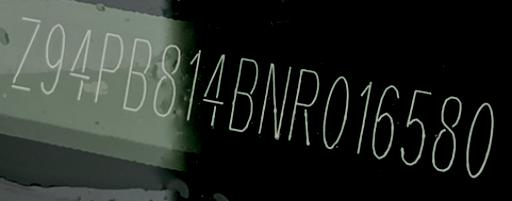letter: (255, 59, 293, 140), (398, 87, 434, 166), (462, 99, 498, 178), (430, 92, 464, 175), (9, 12, 43, 95), (286, 64, 320, 145), (226, 55, 260, 134), (370, 82, 402, 161), (121, 35, 153, 114), (93, 31, 125, 106), (320, 74, 350, 151), (152, 41, 182, 118), (66, 27, 94, 102), (38, 22, 66, 96), (201, 52, 227, 129), (354, 78, 374, 155), (183, 47, 203, 122)
